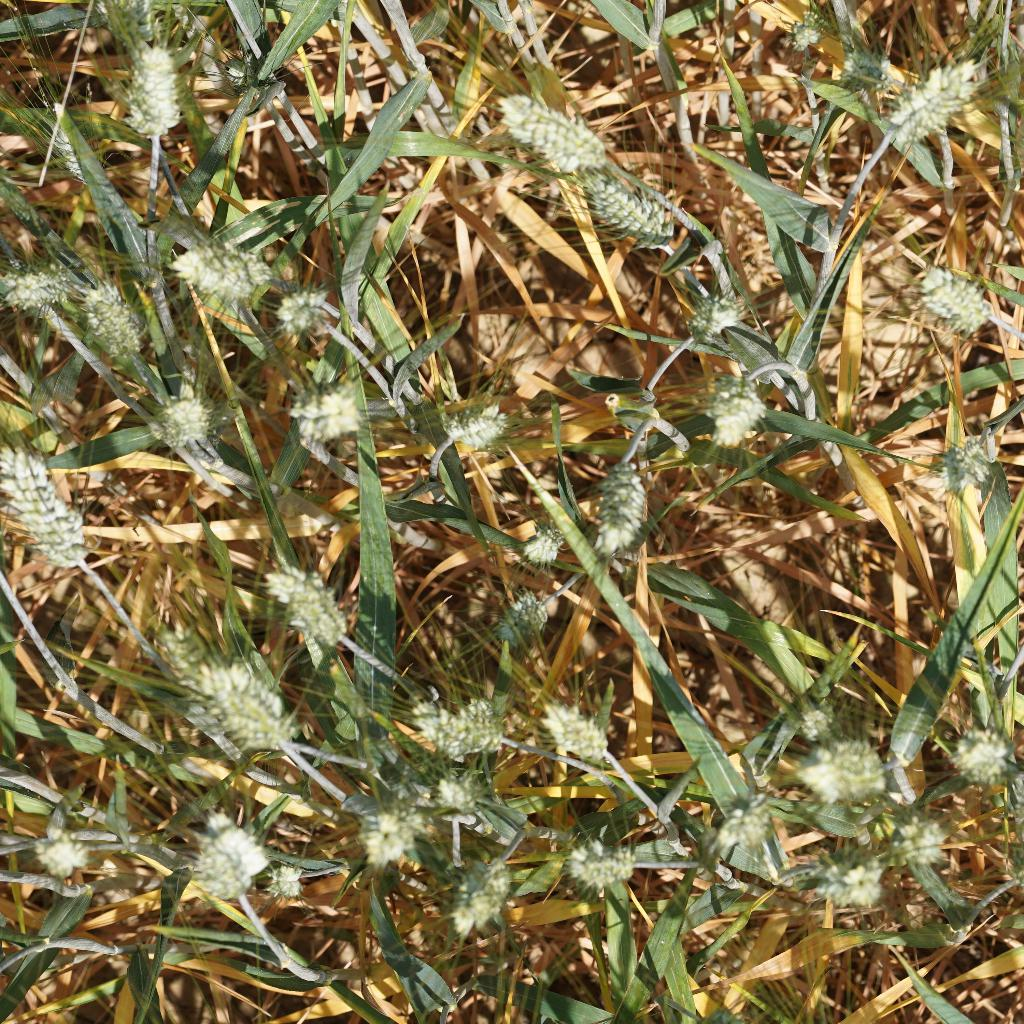0-0: (0, 442, 95, 583), (115, 26, 204, 164), (864, 55, 991, 150), (563, 163, 679, 257), (576, 447, 662, 568), (479, 88, 609, 168), (145, 235, 288, 306), (201, 665, 298, 763), (256, 557, 354, 651), (396, 688, 514, 762), (778, 732, 890, 808), (909, 253, 1000, 339), (183, 807, 271, 894), (33, 98, 108, 191), (531, 694, 623, 769), (73, 284, 149, 372), (484, 574, 576, 642), (141, 610, 216, 691), (703, 365, 768, 456), (280, 380, 372, 444), (546, 832, 643, 892), (445, 859, 518, 931), (269, 283, 339, 357), (919, 430, 994, 499), (813, 847, 893, 911), (348, 799, 419, 870), (425, 391, 516, 444), (722, 780, 791, 849), (142, 385, 216, 449), (882, 799, 959, 860), (0, 268, 78, 328), (679, 284, 752, 348), (428, 763, 504, 822), (21, 822, 94, 882), (504, 519, 576, 574), (212, 47, 276, 108), (829, 40, 893, 101), (950, 727, 1012, 783), (786, 697, 841, 749), (781, 1, 826, 63), (267, 861, 307, 904)
